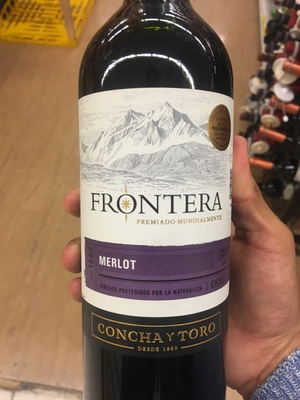frontera merlot: (69, 14, 248, 399)
